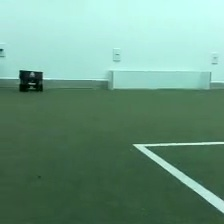goal: (105, 68, 213, 92)
robot: (17, 67, 45, 93)
